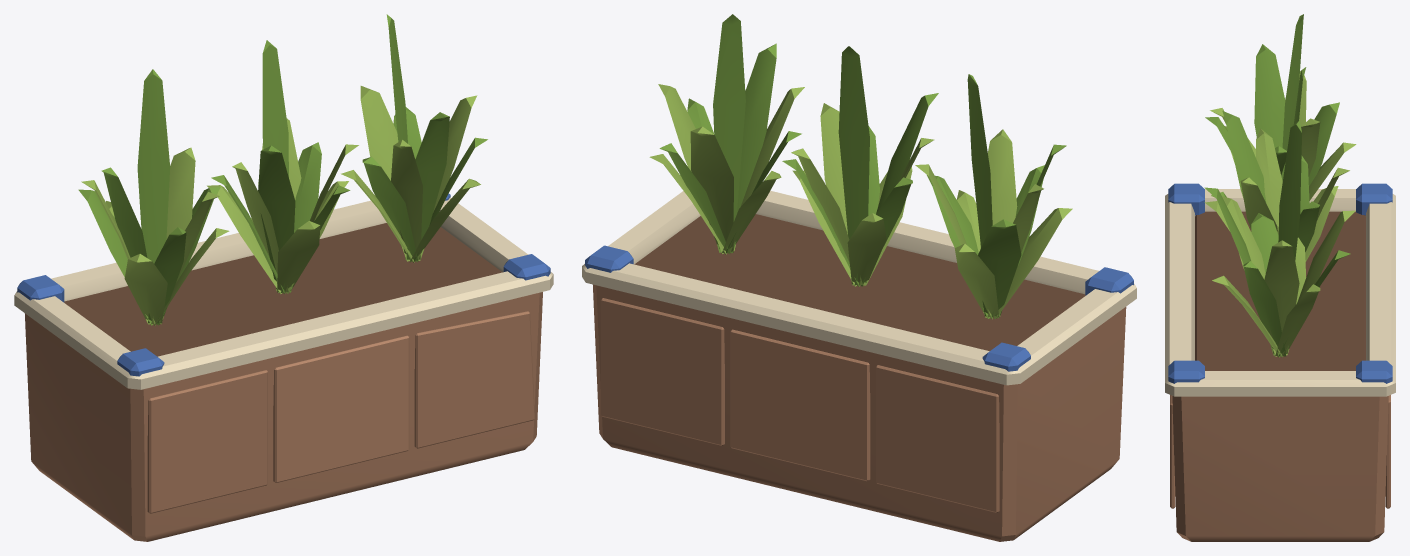
Rendered from AgavePlanter.glb.
3 renders of one model, left to right at view 1: azimuth 30°, elevation 25°; view 2: azimuth 150°, elevation 25°; view 3: azimuth 270°, elevation 25°, orthographic. The views are drawn at different scales.
Visible parts, largest first — view 1: AgavePlanter_Pot, AgavePlanter_Plant, AgavePlanter_Stone, AgavePlanter_Accent; view 2: AgavePlanter_Pot, AgavePlanter_Plant, AgavePlanter_Stone, AgavePlanter_Accent; view 3: AgavePlanter_Pot, AgavePlanter_Plant, AgavePlanter_Stone, AgavePlanter_Accent.
Boxes of the visible parts, <box> form: AgavePlanter_Pot: <box>25,223,542,541</box>; AgavePlanter_Plant: <box>78,14,487,325</box>; AgavePlanter_Stone: <box>14,197,553,389</box>; AgavePlanter_Accent: <box>17,193,550,376</box>; AgavePlanter_Pot: <box>592,214,1126,541</box>; AgavePlanter_Plant: <box>649,14,1072,319</box>; AgavePlanter_Stone: <box>582,190,1136,385</box>; AgavePlanter_Accent: <box>585,245,1133,371</box>; AgavePlanter_Pot: <box>1170,211,1390,541</box>; AgavePlanter_Plant: <box>1204,14,1356,357</box>; AgavePlanter_Stone: <box>1165,189,1395,396</box>; AgavePlanter_Accent: <box>1168,183,1392,383</box>.
Bounding box in the file's own units: 6 × 5.5 × 3.
